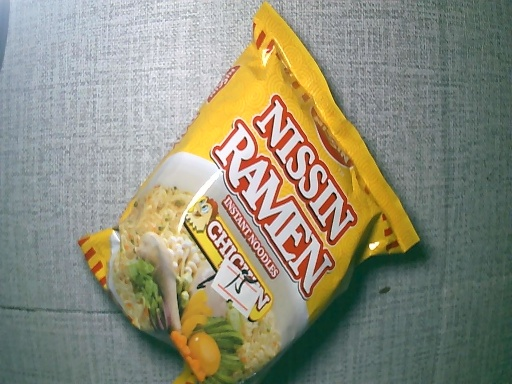plastic: (80, 1, 421, 384)
